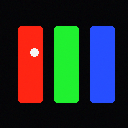0 point: (30, 48, 38, 56)
